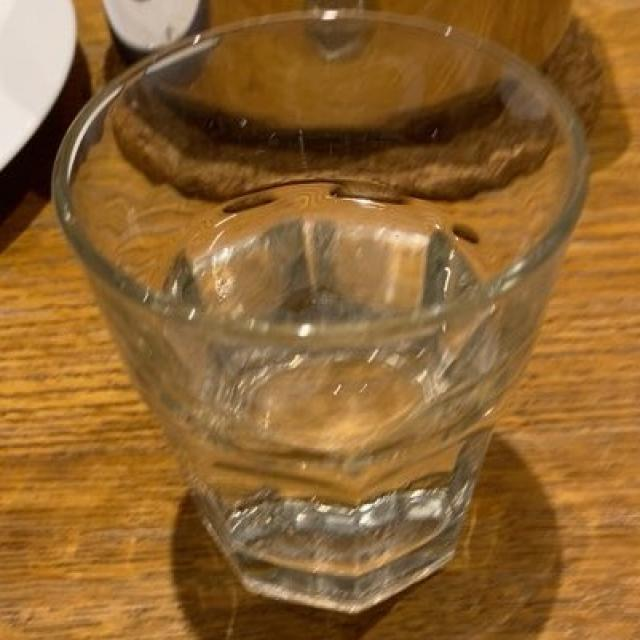water: (156, 206, 497, 586)
